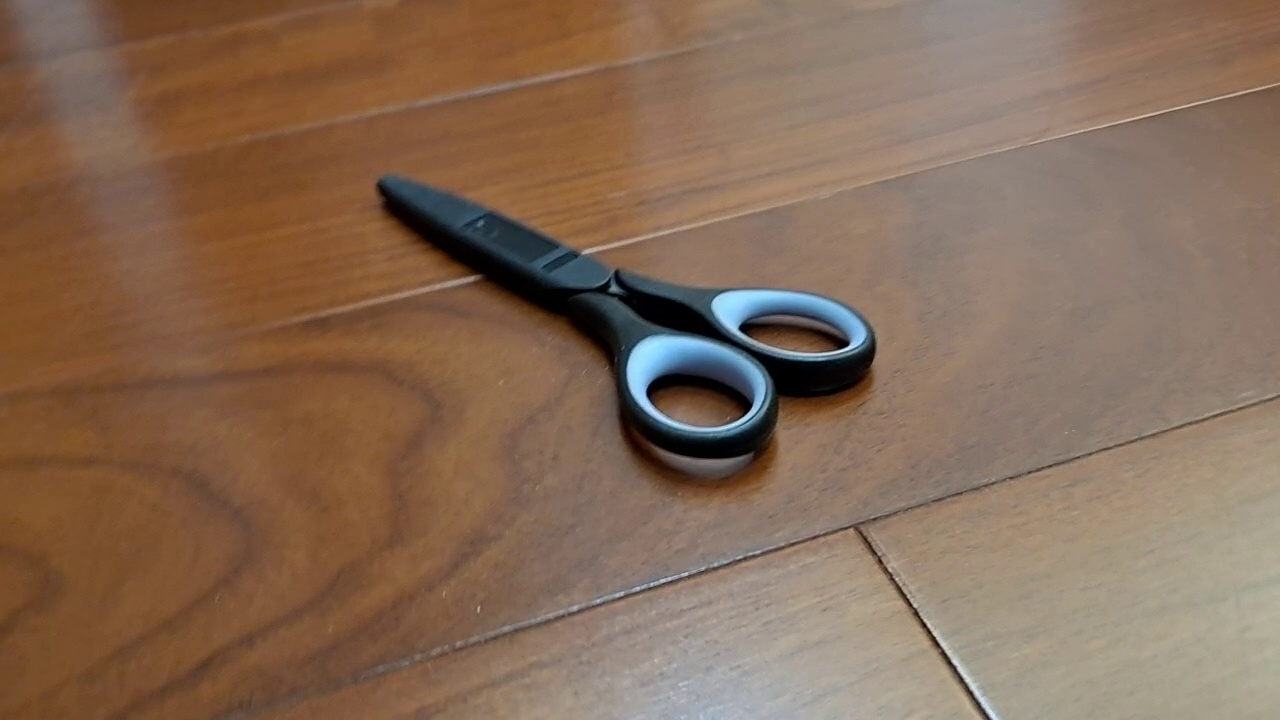scissors: (375, 171, 878, 460)
